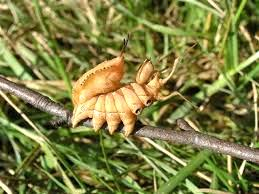Lobster Moth: (63, 44, 194, 139)
